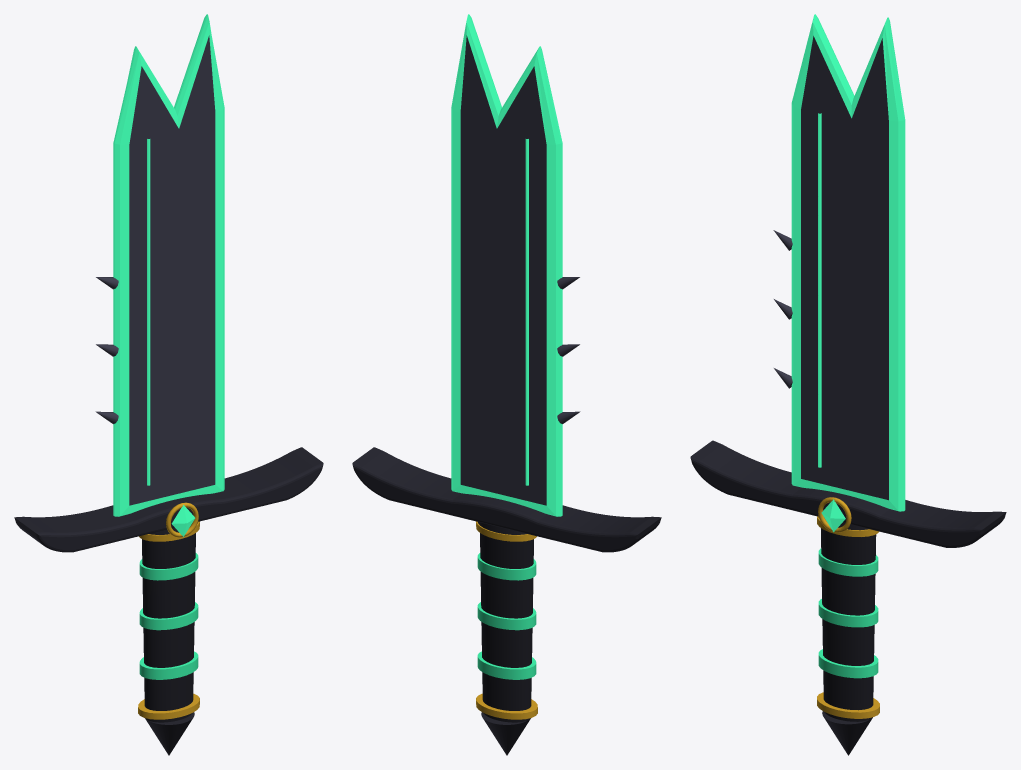
File: 26_Epic_Twin_Fang.glb
3 views of the same model, side by side, from view 1: azimuth 30°, elevation 25°; view 2: azimuth 150°, elevation 25°; view 3: azimuth 330°, elevation 25° (orthographic). The views are drawn at different scales.
Parts seen in each view (by area): view 1: blade_2, guard_wing_0, handle_4, blade_inlay_11, pommel_spike_9, handle_band_7, handle_band_6, handle_band_5, grip_ring_18; view 2: blade_2, guard_wing_0, handle_4, blade_inlay_10, pommel_spike_9, handle_band_7, handle_band_6, handle_band_5, grip_ring_18; view 3: blade_2, guard_wing_0, handle_4, blade_inlay_11, pommel_spike_9, handle_band_7, handle_band_6, handle_band_5, grip_ring_18.
Boxes of the visible parts, x1,y1,x2,y2 form: blade_2: [113, 14, 224, 516]; guard_wing_0: [14, 447, 323, 552]; handle_4: [142, 533, 195, 722]; blade_inlay_11: [147, 139, 150, 485]; pommel_spike_9: [145, 712, 194, 755]; handle_band_7: [139, 651, 198, 679]; handle_band_6: [139, 602, 198, 630]; handle_band_5: [139, 553, 198, 580]; grip_ring_18: [138, 693, 199, 719]; blade_2: [451, 14, 562, 516]; guard_wing_0: [352, 447, 661, 552]; handle_4: [480, 533, 533, 722]; blade_inlay_10: [525, 139, 528, 485]; pommel_spike_9: [481, 712, 530, 755]; handle_band_7: [477, 651, 536, 679]; handle_band_6: [477, 602, 536, 630]; handle_band_5: [477, 553, 536, 580]; grip_ring_18: [476, 693, 537, 719]; blade_2: [791, 14, 905, 511]; guard_wing_0: [690, 440, 1006, 547]; handle_4: [821, 528, 876, 721]; blade_inlay_11: [818, 113, 821, 467]; pommel_spike_9: [822, 711, 872, 755]; handle_band_7: [818, 649, 878, 678]; handle_band_6: [818, 599, 878, 627]; handle_band_5: [818, 548, 878, 576]; grip_ring_18: [817, 692, 879, 718].
Size of the model in its own units: 0.2877 by 0.6996 by 0.0536.
9 materials, 9 textured.
